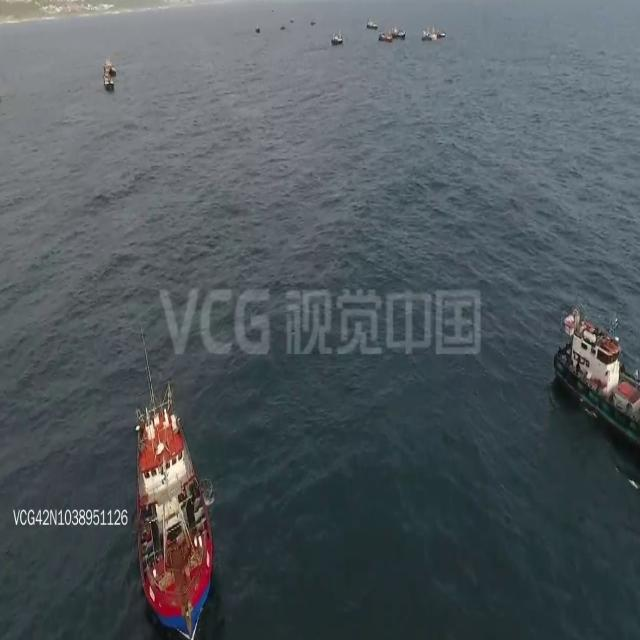fishing boat: (129, 382, 216, 640), (550, 294, 640, 453)
